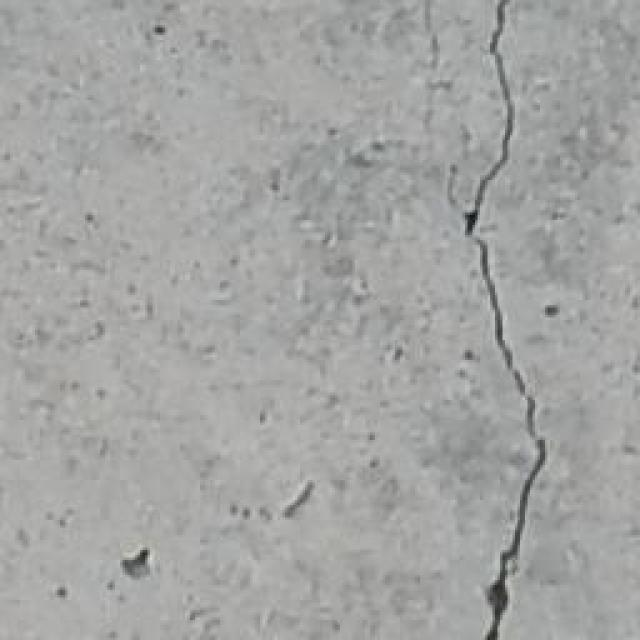concrete-crack: (482, 240, 550, 640), (462, 0, 512, 240)
